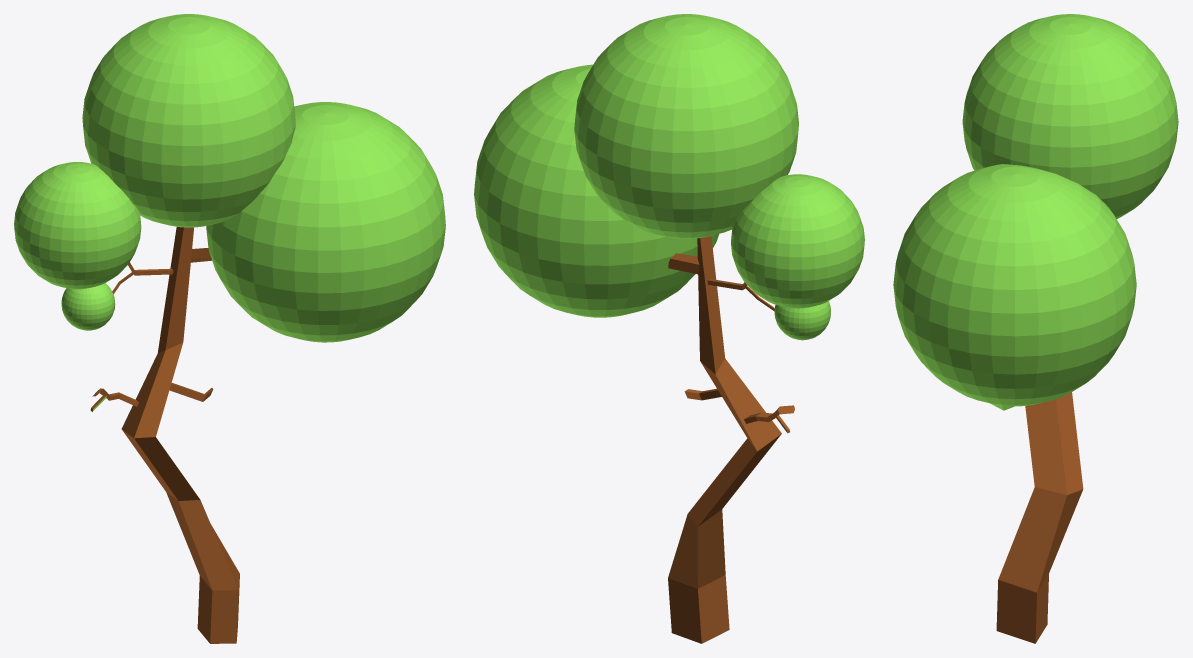
Rendered from Tree.fbx.
3 views of the same model, side by side, from view 1: azimuth 30°, elevation 25°; view 2: azimuth 150°, elevation 25°; view 3: azimuth 270°, elevation 25° (orthographic). The views are drawn at different scales.
Visible parts, largest first — view 1: Plane; view 2: Plane; view 3: Plane.
Part boxes in pixels (bbox=[...]): Plane: bbox=[14, 14, 445, 643]; Plane: bbox=[474, 14, 864, 643]; Plane: bbox=[893, 14, 1178, 643].
Size of the model in its own units: 502 by 761 by 325.
